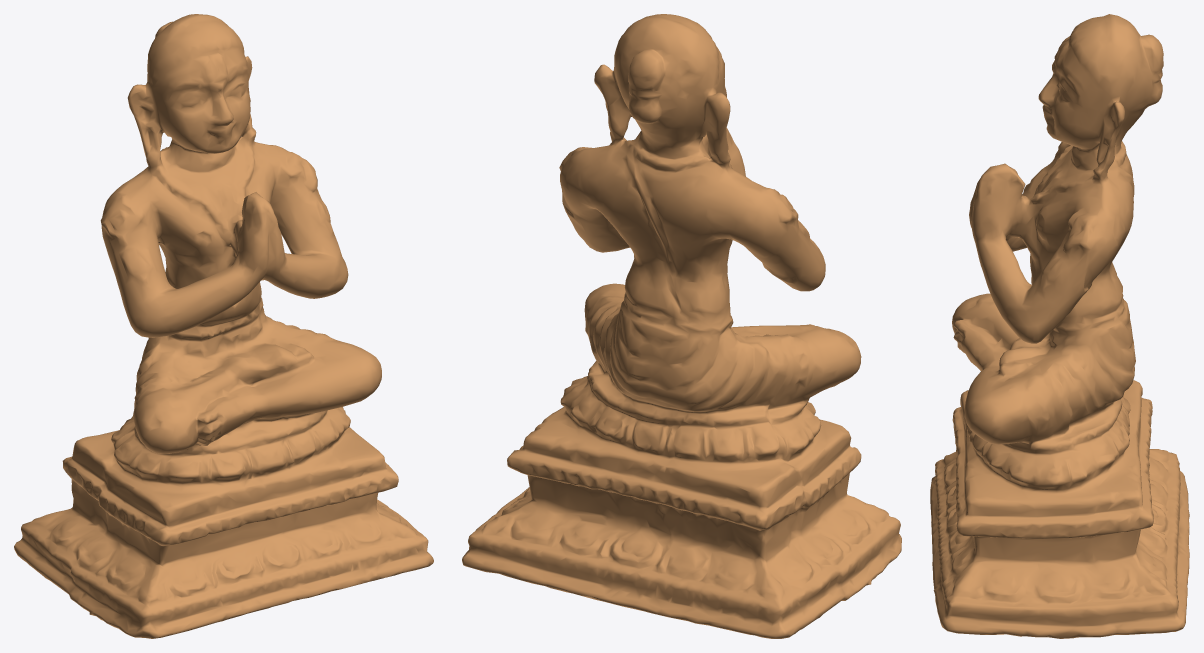
File: Vainavam_Ramanujar_23.glb
3 views of the same model, side by side, from view 1: azimuth 30°, elevation 25°; view 2: azimuth 150°, elevation 25°; view 3: azimuth 270°, elevation 25° (orthographic). The views are drawn at different scales.
Parts seen in each view (by area): view 1: Vainavam_Ramanujar_23; view 2: Vainavam_Ramanujar_23; view 3: Vainavam_Ramanujar_23.
Part boxes in pixels (x1,y1,x2,y2): Vainavam_Ramanujar_23: (14, 14, 433, 638); Vainavam_Ramanujar_23: (462, 14, 901, 638); Vainavam_Ramanujar_23: (930, 14, 1189, 638).
Size of the model in its own units: 0.3938 by 0.6369 by 0.2775.
